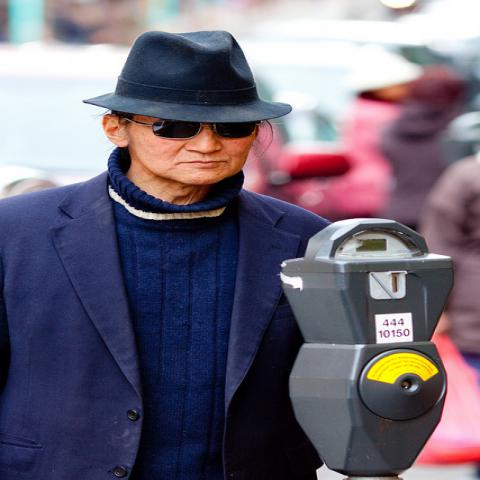car: (256, 140, 394, 217)
